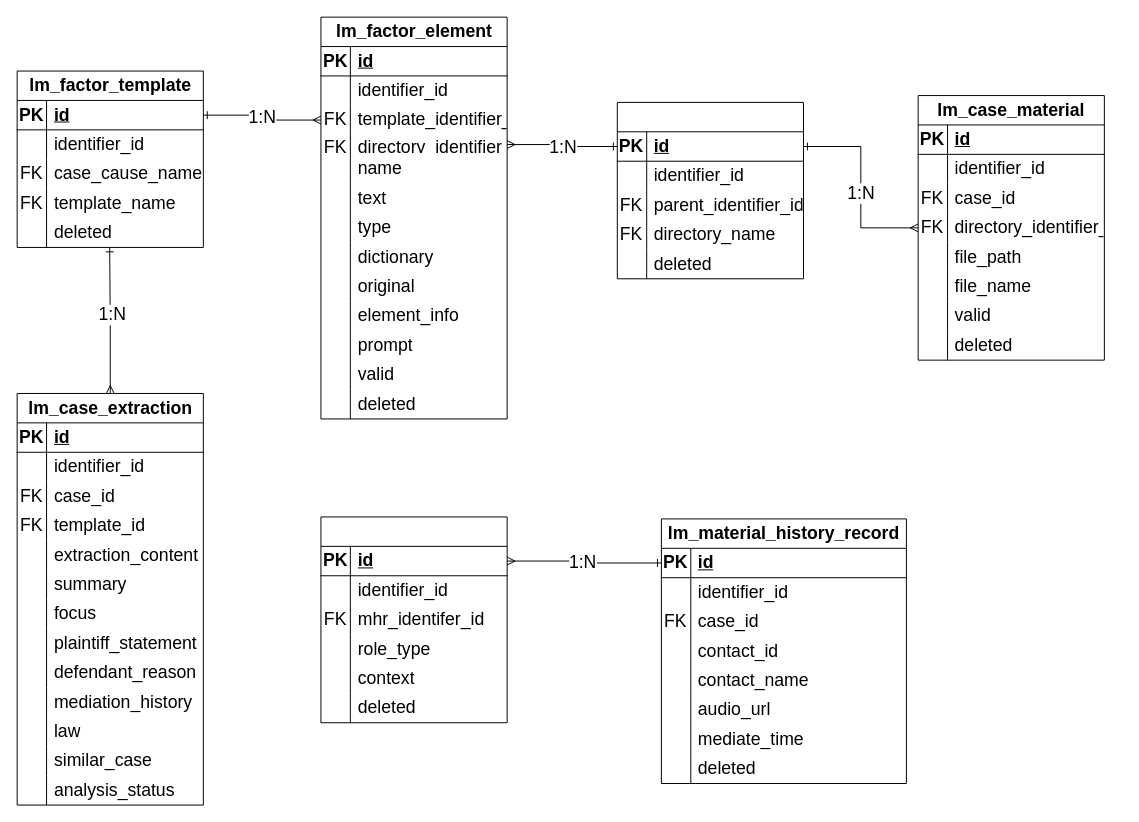
Some shapes in this 1139 by 822 pixel diagram are drawn without their labels. Each missing label, with the box of its shape:
lm_directory: (616, 101, 804, 279)
lm_material_record: (320, 516, 507, 723)
